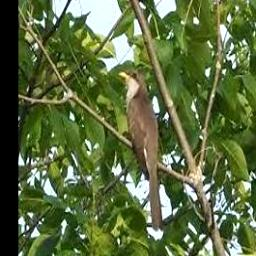Cuckoo: (118, 70, 163, 230)
